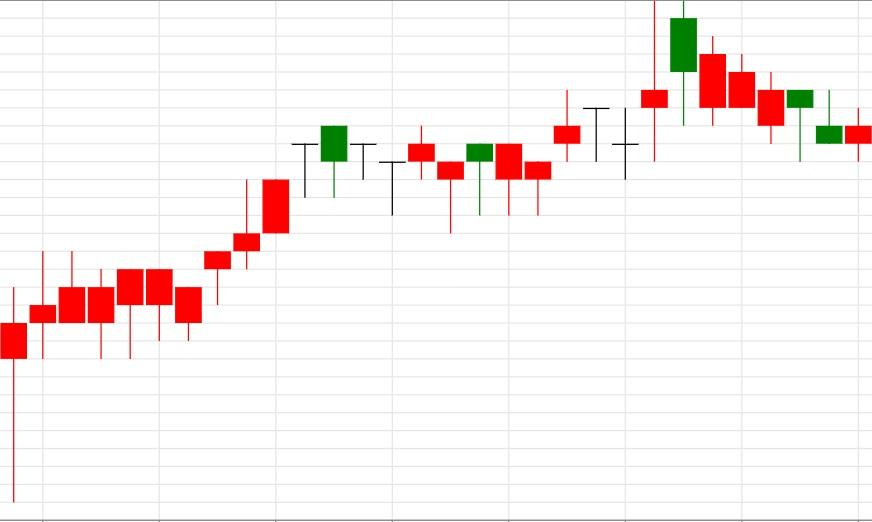hammer_rise: (320, 125, 466, 233)
